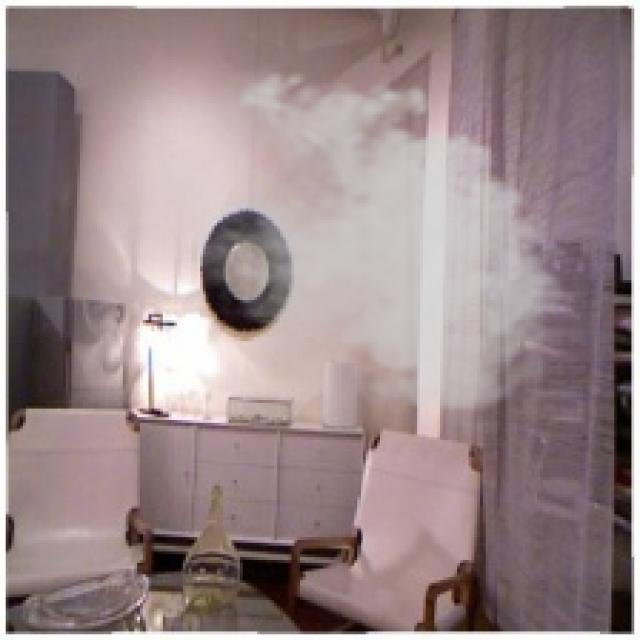smoke: (192, 60, 577, 420)
